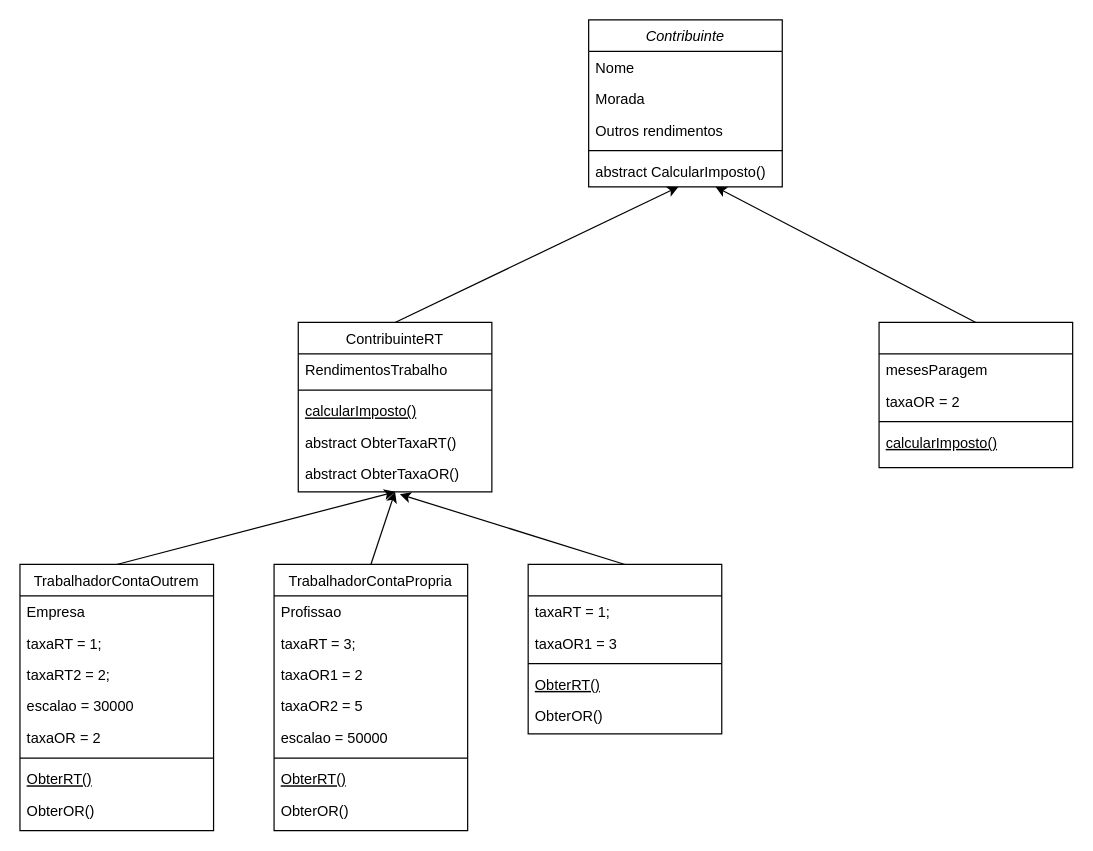
Image size: 1093x851. Some labels were removed from this diagram. Each missing label, with the box of its shape:
Desempregado: (878, 321, 1073, 468)
Reformado: (527, 563, 722, 734)
